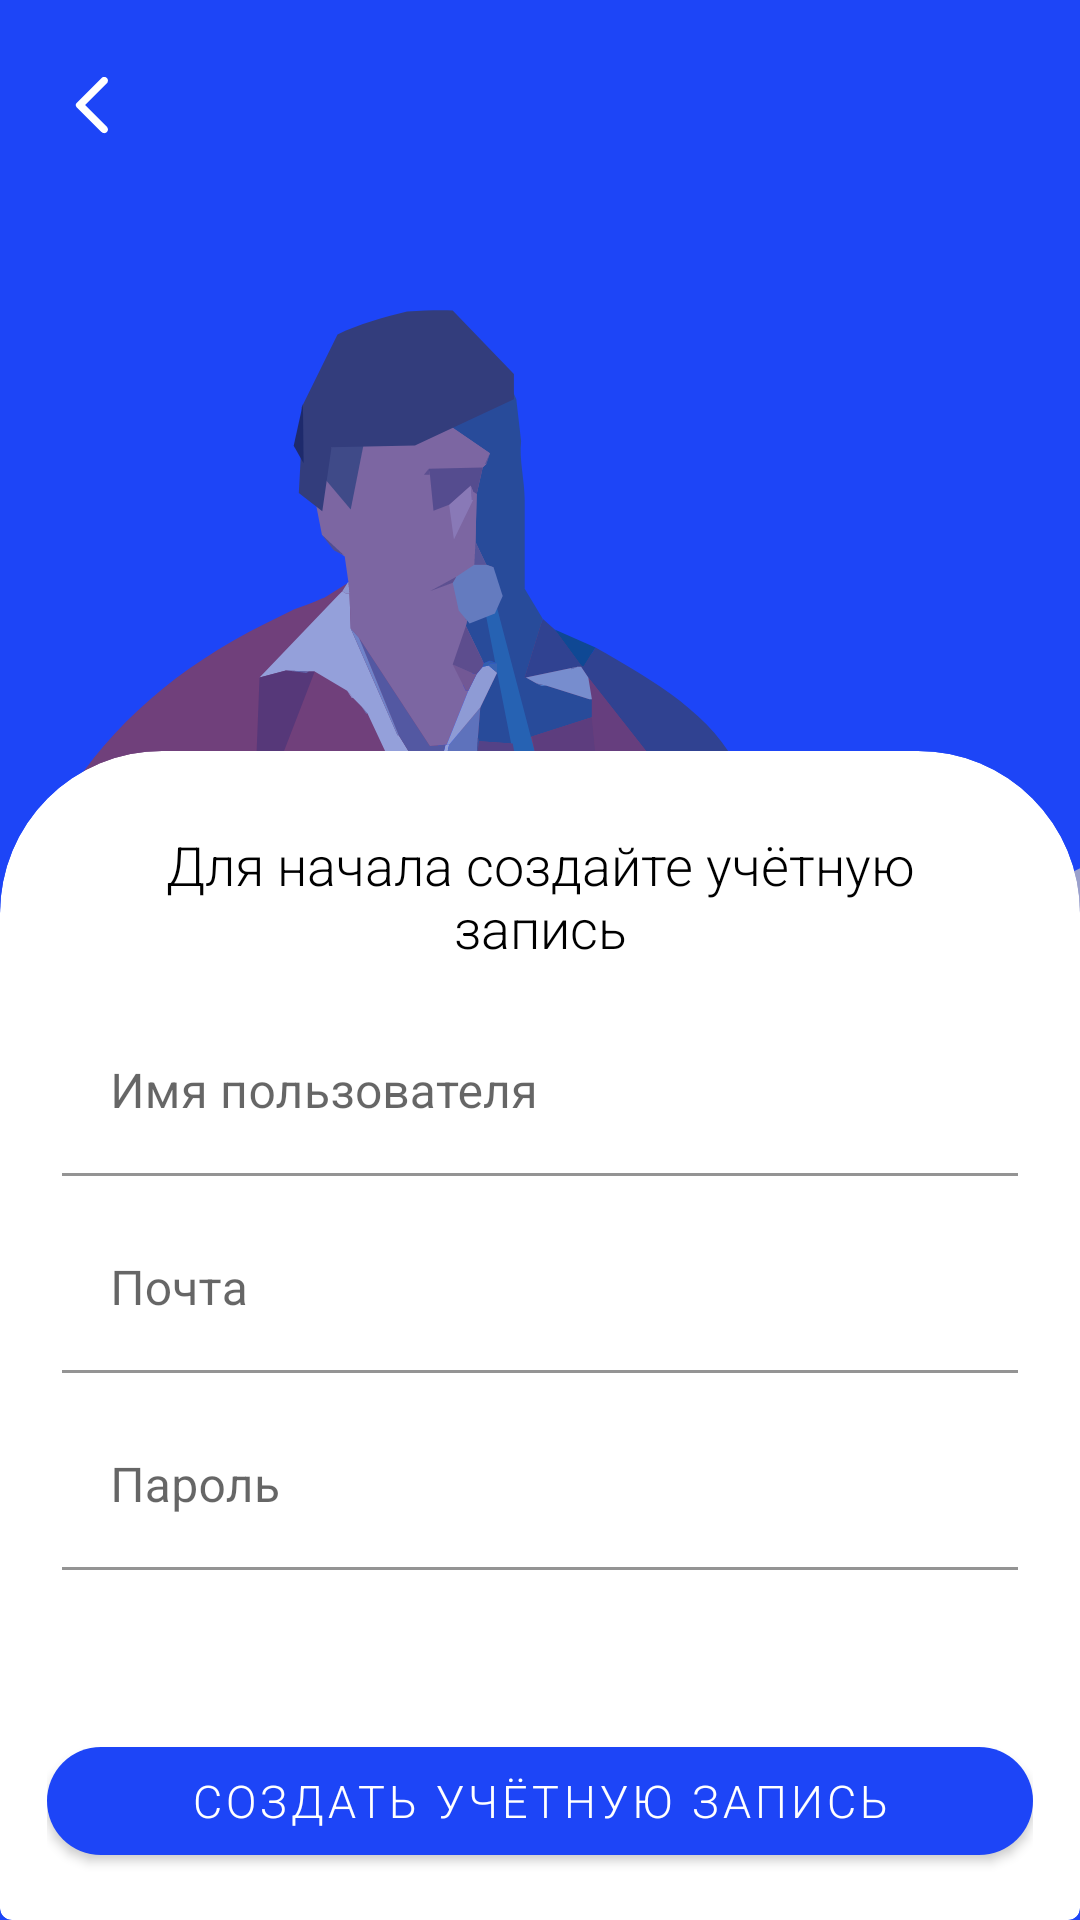

Point at icon controls on the screen. Image size 1080*1920, points as point (x, y).
back: point (91, 105)
